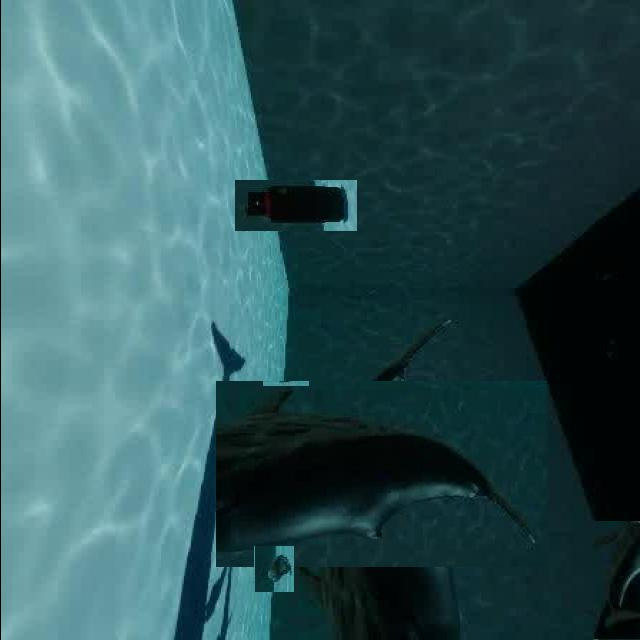Cylinder: (234, 180, 356, 231)
Shell: (252, 546, 292, 592)
Whale: (252, 344, 510, 604), (592, 521, 640, 640)
